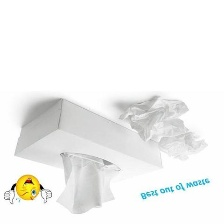book: (8, 94, 168, 182)
tissue: (112, 92, 211, 166), (51, 148, 119, 219)
